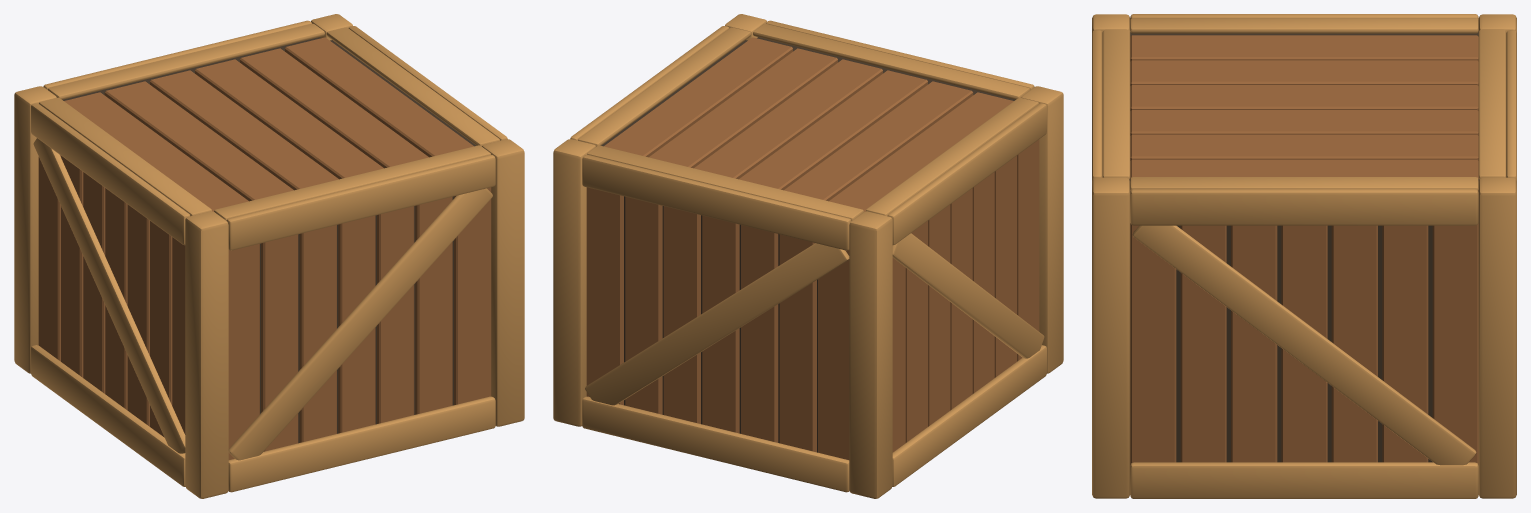
Rendered from WoodenCrate.fbx.
3 views of the same model, side by side, from view 1: azimuth 30°, elevation 25°; view 2: azimuth 150°, elevation 25°; view 3: azimuth 270°, elevation 25° (orthographic). The views are drawn at different scales.
Visible parts, largest first — view 1: WoodenCrate_Mesh; view 2: WoodenCrate_Mesh; view 3: WoodenCrate_Mesh.
Part boxes in pixels (box(x1,y1,x2,y2)): WoodenCrate_Mesh: box(14, 14, 524, 498); WoodenCrate_Mesh: box(553, 14, 1063, 498); WoodenCrate_Mesh: box(1092, 14, 1516, 498).
Size of the model in its own units: 1 by 0.8 by 1.
